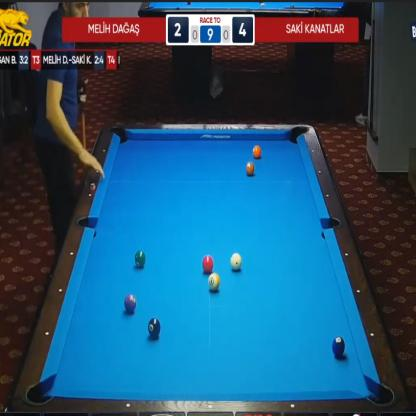Ball: (331, 336, 345, 357), (148, 317, 161, 338), (124, 293, 136, 313), (134, 249, 146, 268), (230, 252, 242, 271), (202, 255, 214, 273), (208, 273, 220, 291), (252, 145, 262, 158), (245, 162, 254, 176)
